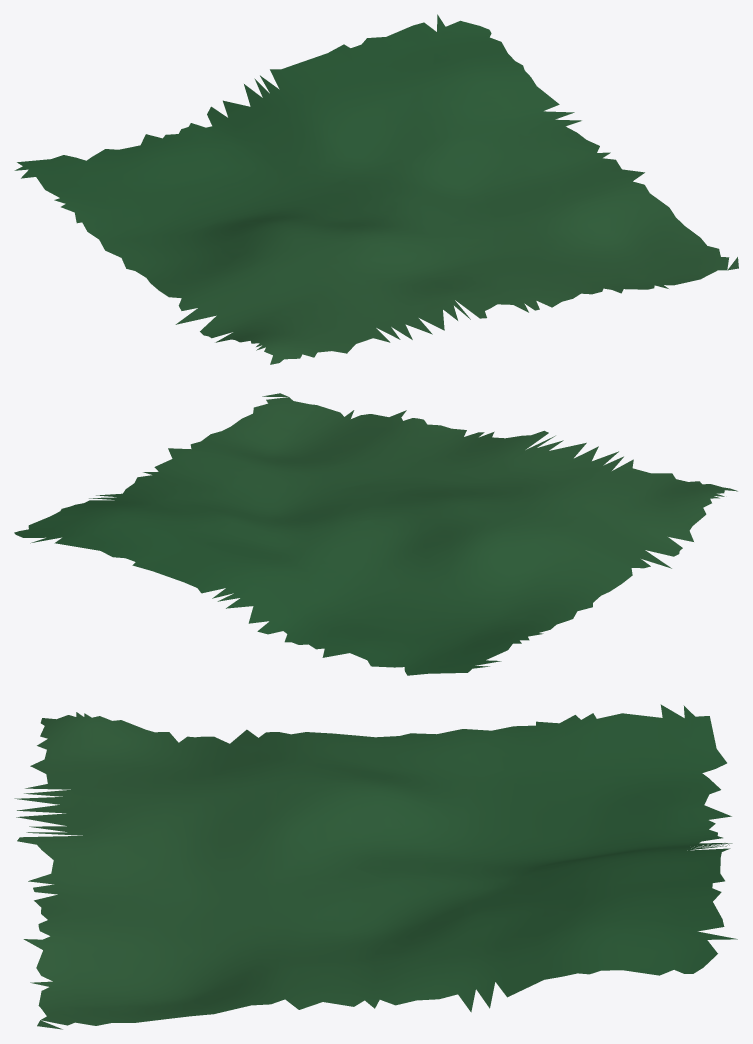
File: payo_land_x3_y6.glb
3 views of the same model, one above another, from view 1: azimuth 30°, elevation 25°; view 2: azimuth 150°, elevation 25°; view 3: azimuth 270°, elevation 25° (orthographic). The views are drawn at different scales.
Visible parts, largest first — view 1: payo_land_x3_y6; view 2: payo_land_x3_y6; view 3: payo_land_x3_y6.
Part boxes in pixels (<box>): payo_land_x3_y6: <box>14,14,738,364</box>; payo_land_x3_y6: <box>14,393,737,675</box>; payo_land_x3_y6: <box>14,704,737,1029</box>.
Size of the model in its own units: 275 by 34.2 by 275.
